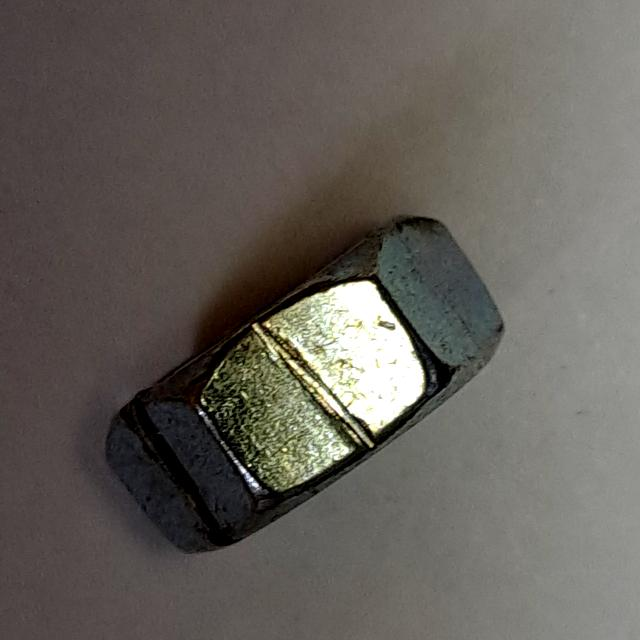Side_Scratches: (94, 203, 521, 569)
